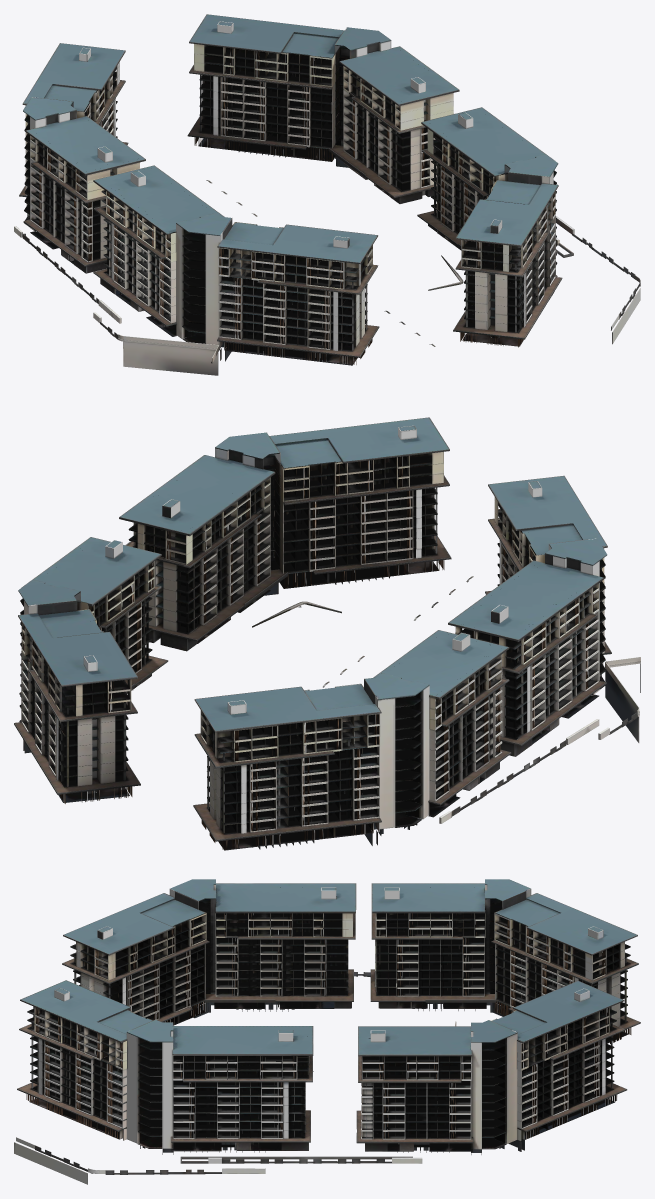
The model's file is Yaafour_build_2.glb.
3 renders of one model, top to bottom at view 1: azimuth 30°, elevation 25°; view 2: azimuth 150°, elevation 25°; view 3: azimuth 270°, elevation 25°, orthographic. The views are drawn at different scales.
Visible parts, largest first — view 1: house_2; view 2: house_2; view 3: house_2.
Boxes of the visible parts, x1,y1,x2,y2 form: house_2: [14, 14, 640, 375]; house_2: [14, 417, 640, 850]; house_2: [14, 879, 640, 1184].
Bounding box in the file's own units: 181 × 52.72 × 228.
4 materials, 4 textured.
